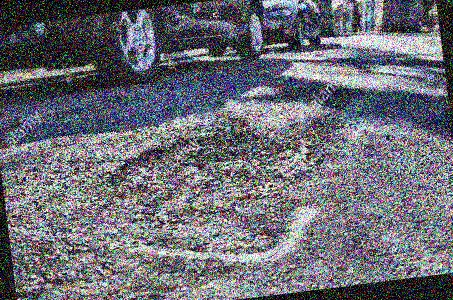pothole: (97, 110, 356, 227)
